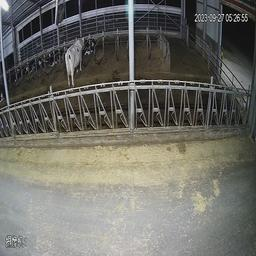cow: (62, 29, 86, 88), (44, 43, 61, 68), (28, 48, 42, 73), (87, 35, 99, 56)
